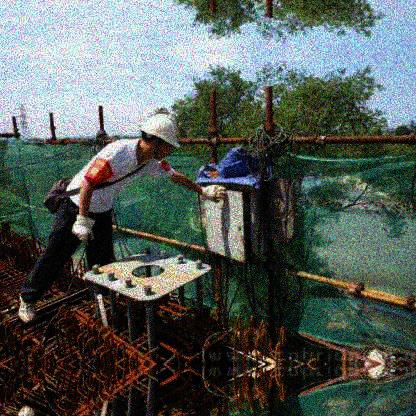helmet: (138, 113, 181, 166)
